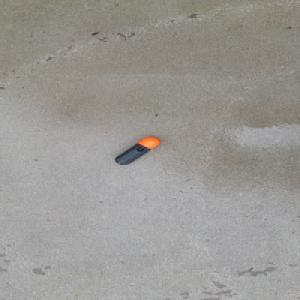PlasticPart: (113, 136, 161, 165)
